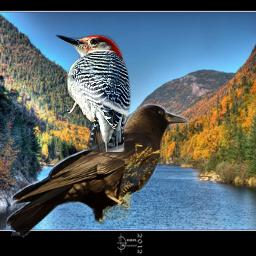Crow: (6, 100, 192, 242)
Woodpecker: (51, 28, 135, 152)
